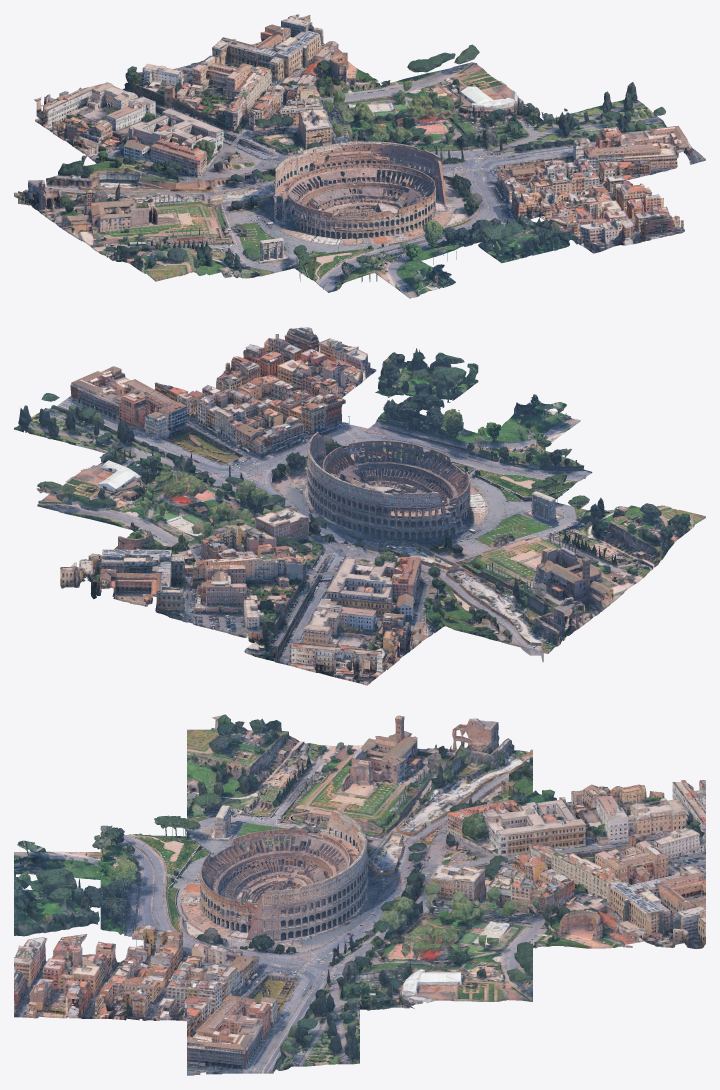
File: colosseum_clay.glb
The picture shows the model from 3 angles, top to bottom: view 1: azimuth 30°, elevation 25°; view 2: azimuth 150°, elevation 25°; view 3: azimuth 270°, elevation 25°; orthographic projection. The views are drawn at different scales.
Parts seen in each view (by area): view 1: Colosseum_Rome_Isolated_360; view 2: Colosseum_Rome_Isolated_360; view 3: Colosseum_Rome_Isolated_360.
Part boxes in pixels (x1=…): Colosseum_Rome_Isolated_360: x1=14, y1=14, x2=705, y2=298; Colosseum_Rome_Isolated_360: x1=14, y1=327, x2=705, y2=685; Colosseum_Rome_Isolated_360: x1=14, y1=714, x2=705, y2=1075.
Bounding box in the file's own units: 686 × 84.12 × 610.
79 materials, 79 textured.
